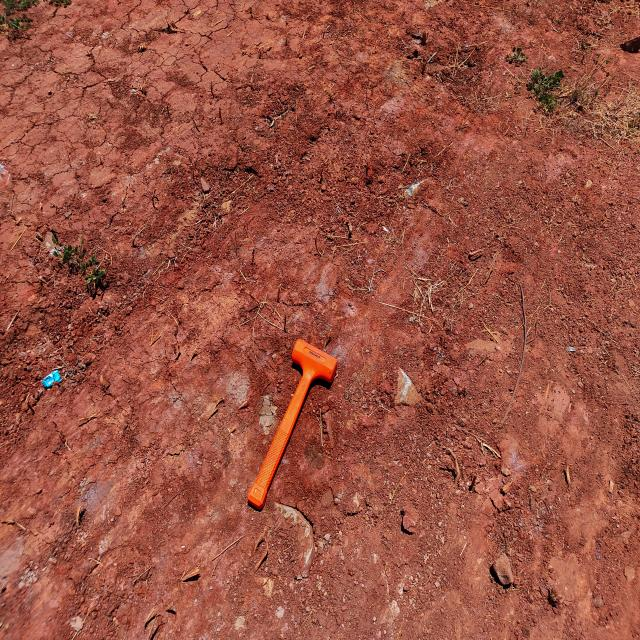Orange_hammer: (248, 337, 340, 511)
